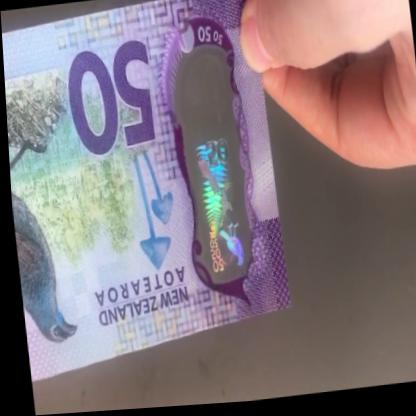50B: (179, 64, 248, 281)
